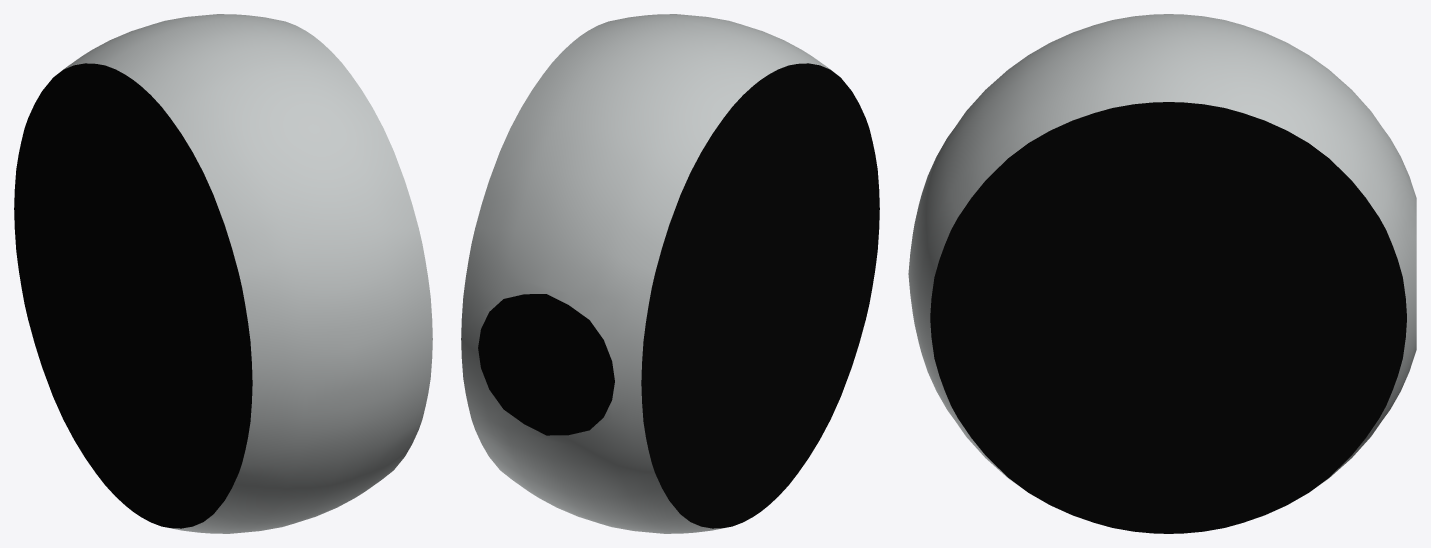
Rendered from hip.obj.
3 views of the same model, side by side, from view 1: azimuth 30°, elevation 25°; view 2: azimuth 150°, elevation 25°; view 3: azimuth 270°, elevation 25° (orthographic).
Parts seen in each view (by area): view 1: hip; view 2: hip; view 3: hip.
Boxes of the visible parts, x1=… form: hip: x1=14, y1=14, x2=432, y2=533; hip: x1=461, y1=14, x2=879, y2=533; hip: x1=908, y1=14, x2=1416, y2=533.
Size of the model in its own units: 0.1 by 0.2501 by 0.2441.
1 material, 1 textured.
